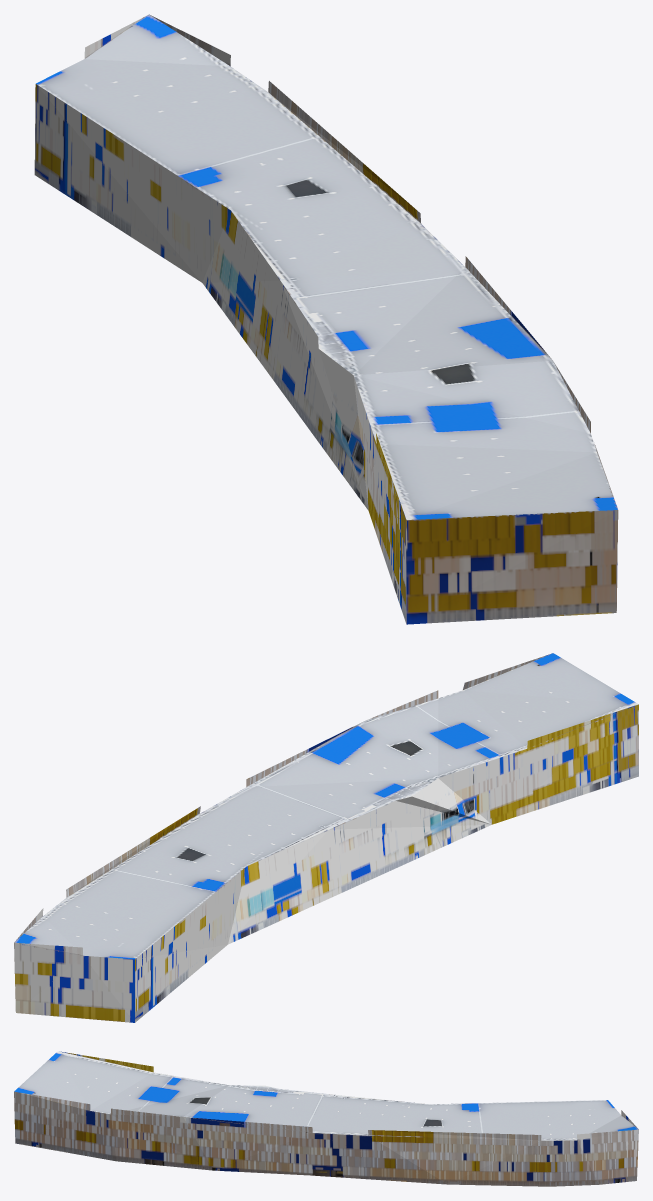
The model's file is 104_NEWW.glb.
3 renders of one model, top to bottom at view 1: azimuth 30°, elevation 25°; view 2: azimuth 150°, elevation 25°; view 3: azimuth 270°, elevation 25°, orthographic. The views are drawn at different scales.
Visible parts, largest first — view 1: 1.04copy; view 2: 1.04copy; view 3: 1.04copy.
Boxes of the visible parts, bbox=[...] form: 1.04copy: bbox=[34, 14, 618, 624]; 1.04copy: bbox=[14, 653, 638, 1022]; 1.04copy: bbox=[14, 1051, 638, 1186].
Size of the model in its own units: 81.87 by 23.92 by 256.
Materials: 1 (1 with a texture image).
